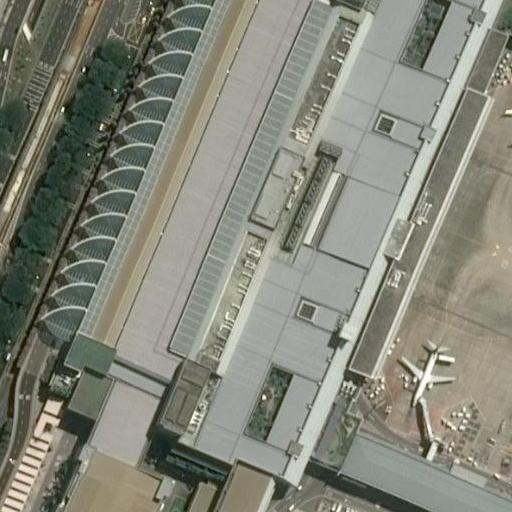Aircraft: (395, 342, 452, 394), (502, 82, 512, 167)
